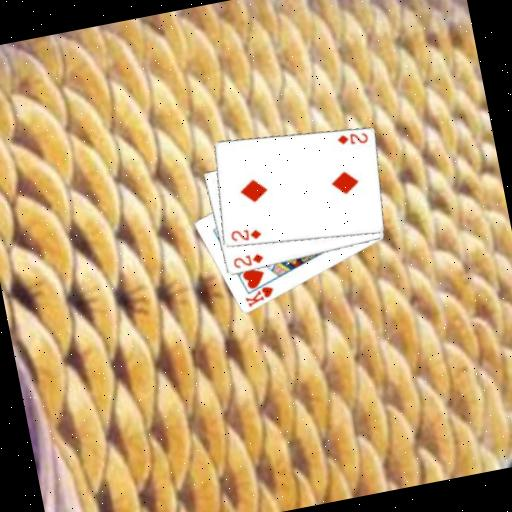2D: (226, 223, 264, 246), (333, 127, 371, 150), (230, 250, 266, 271)
KH: (240, 282, 277, 310)
